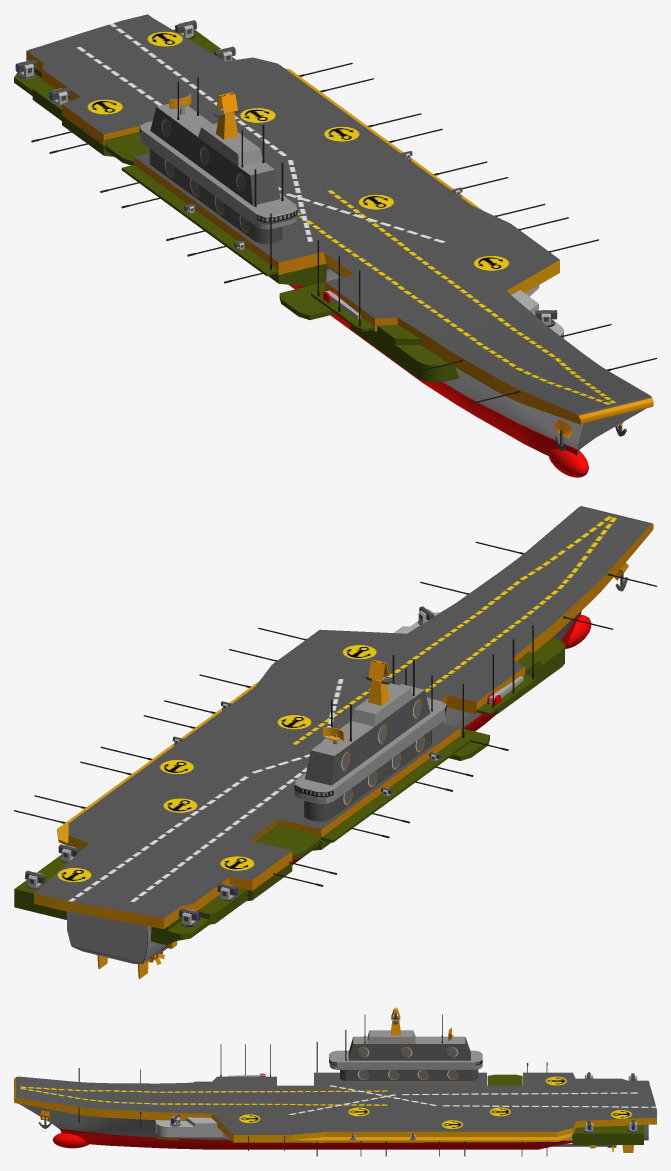
File: Aircraft_carrier_1.fbx
3 views of the same model, one above another, from view 1: azimuth 30°, elevation 25°; view 2: azimuth 150°, elevation 25°; view 3: azimuth 270°, elevation 25° (orthographic). The views are drawn at different scales.
Visible parts, largest first — view 1: final2; view 2: final2; view 3: final2.
Part boxes in pixels (x1,y1,x2,y2): final2: (14,14,656,477); final2: (14,506,656,978); final2: (14,1007,656,1156).
Bounding box in the file's own units: 31.87 × 18.74 × 92.75.
